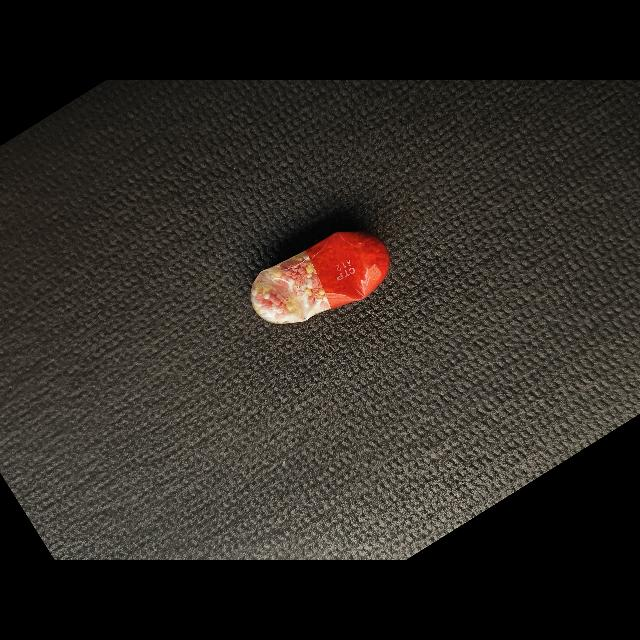Defective Capsule: (251, 232, 390, 324)
